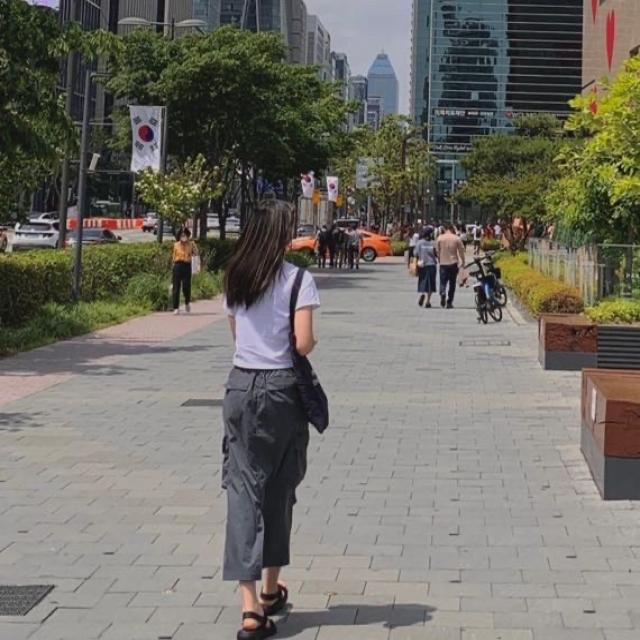shortsleeve: (222, 256, 320, 370)
skirt: (220, 362, 310, 578)
